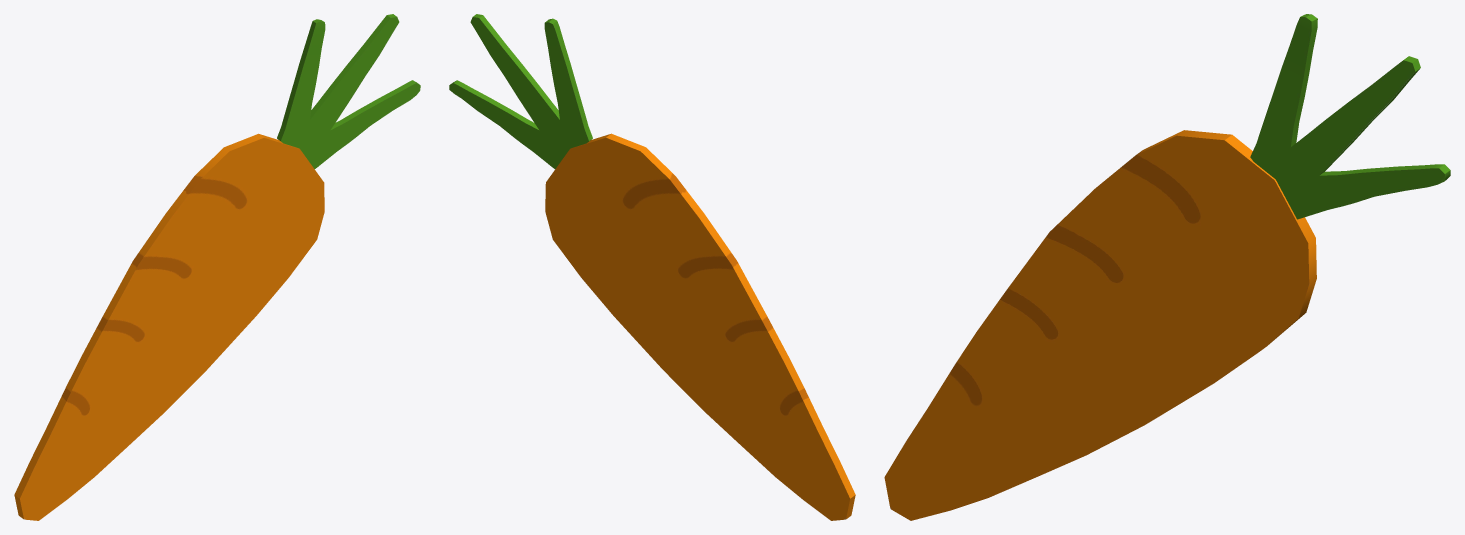
The model's file is Carrat.fbx.
The picture shows the model from 3 angles, left to right: view 1: azimuth 30°, elevation 25°; view 2: azimuth 150°, elevation 25°; view 3: azimuth 330°, elevation 25°; orthographic projection. The views are drawn at different scales.
Parts seen in each view (by area): view 1: polySurface10; view 2: polySurface10; view 3: polySurface10.
Part boxes in pixels (x1,y1,x2,y2): polySurface10: [14, 14, 420, 520]; polySurface10: [449, 14, 855, 520]; polySurface10: [884, 14, 1450, 520].
Bounding box in the file's own units: 24.34 × 24.9 × 0.606.
Materials: 1 (1 with a texture image).
